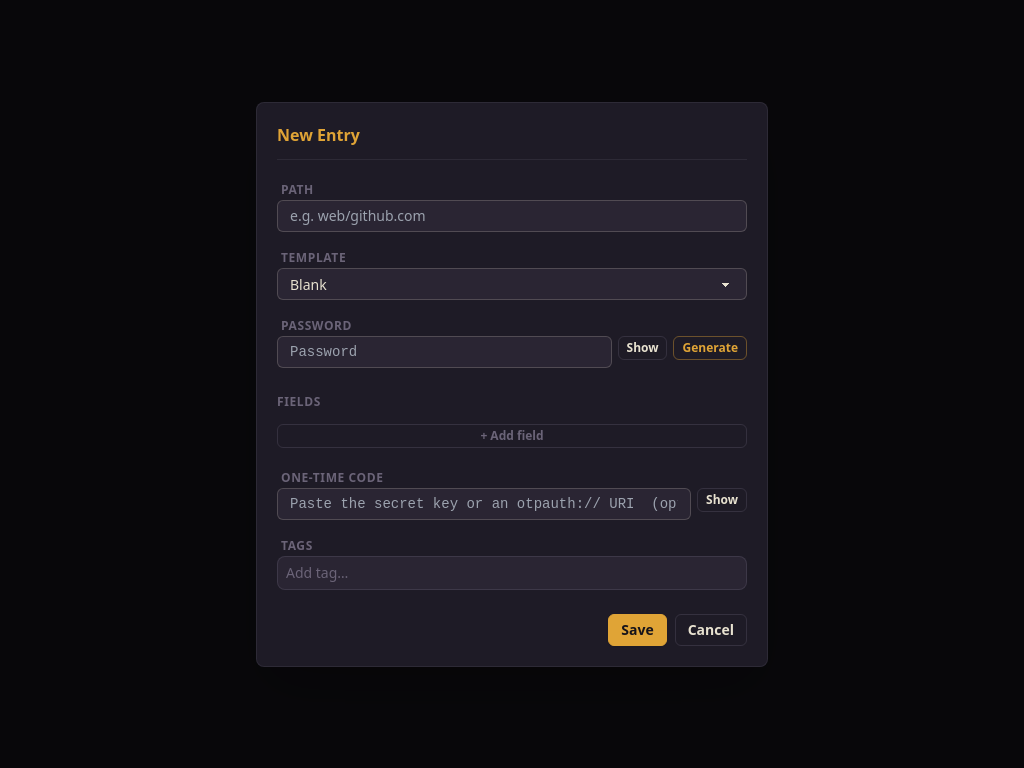
Form (create) — Save › Generate button fills the password field from the backend command
Expected: the password field with test id "password-input" is empty, [277,336,612,368]
Click the button with test id "generate-button" at (710, 348), box [674,336,747,360]
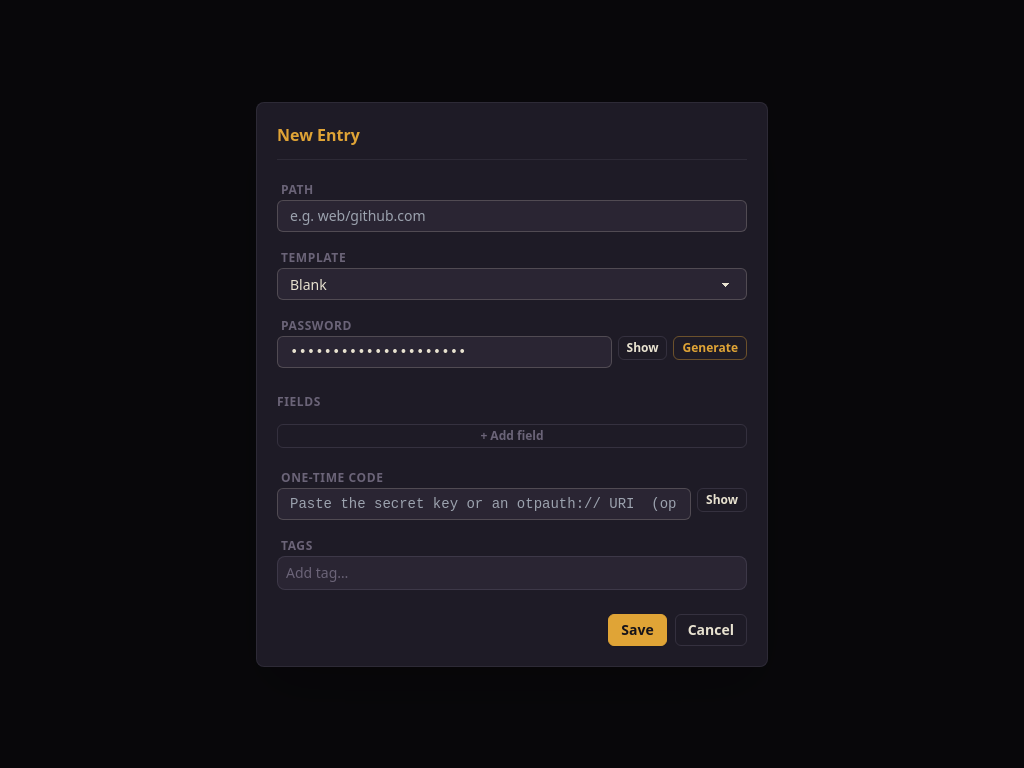
Now the password field with test id "password-input" holds "Abc123!@#xyzABC123!@#", box [277,336,612,368]
